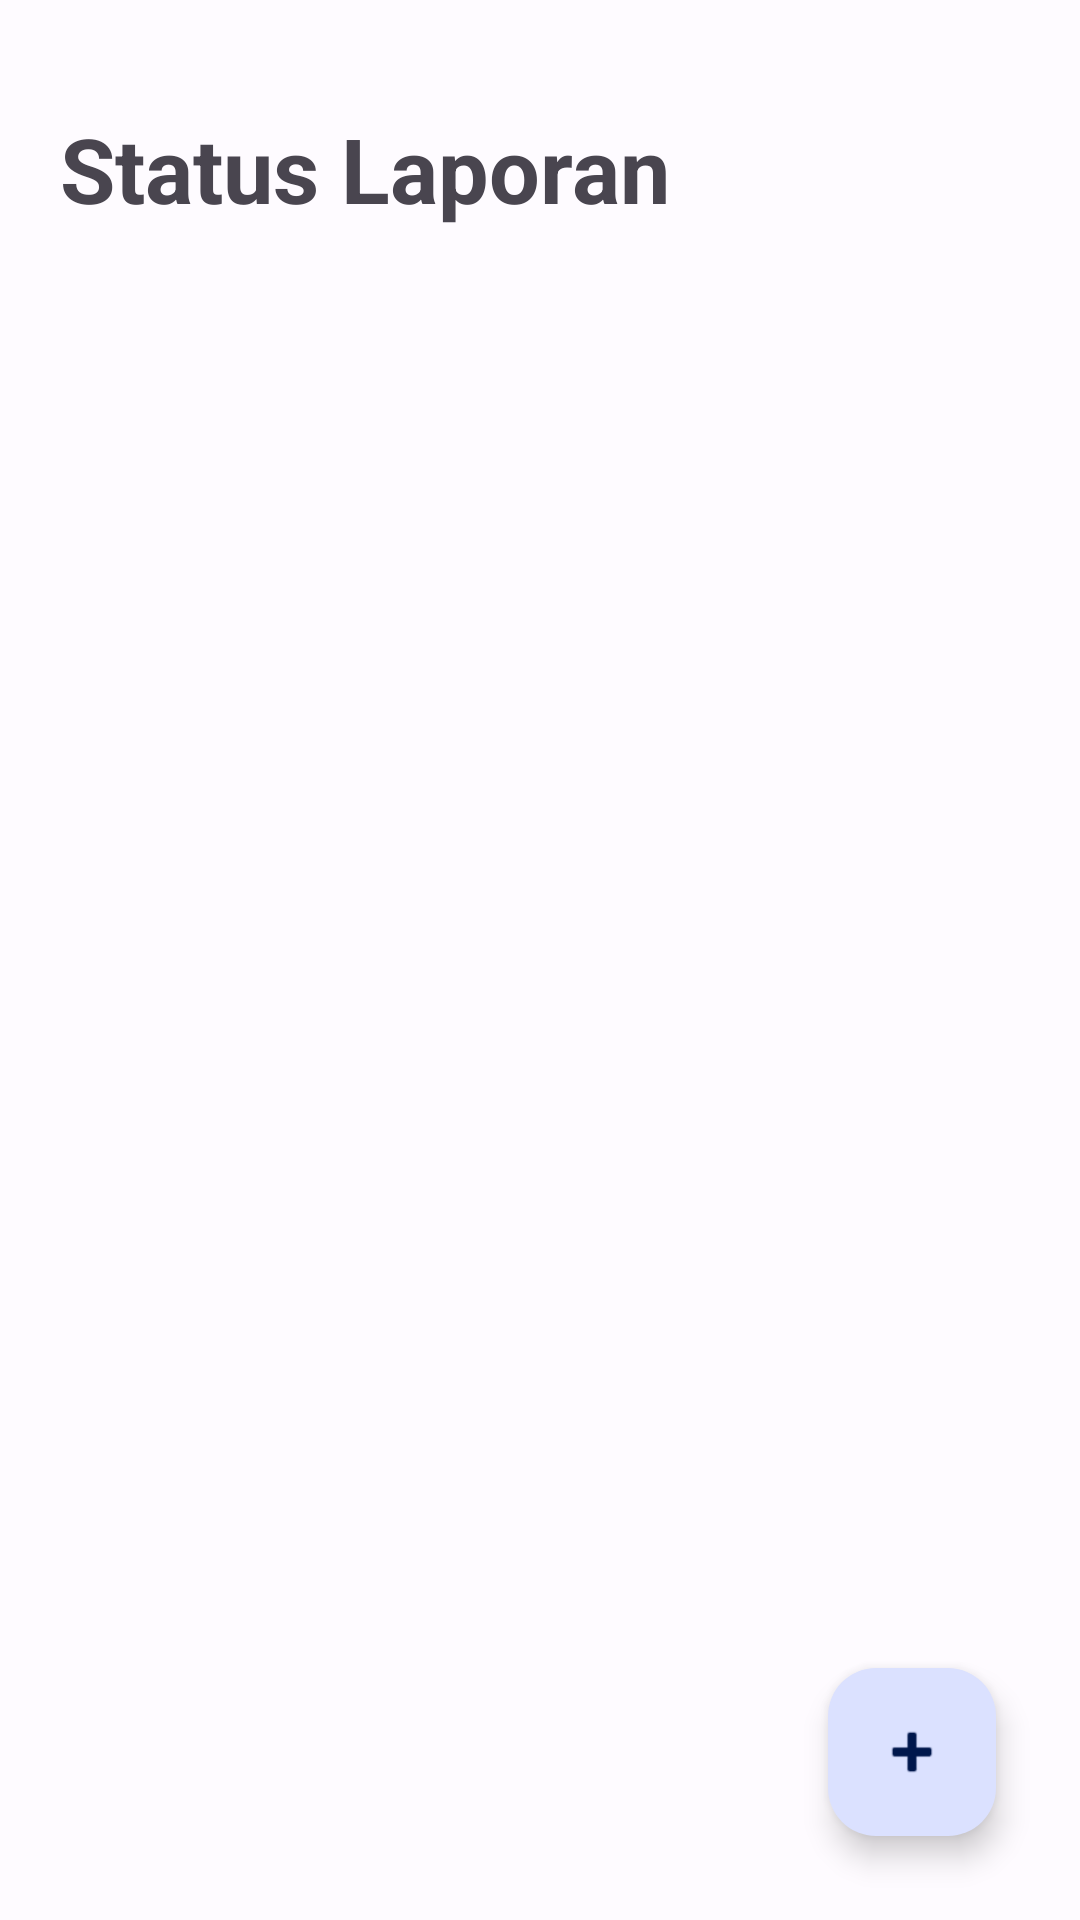

Named icons in this screenshot (1080 × 1920) and their bounding boxes, Rect(x1, y1, x2, y2):
add: Rect(828, 1668, 996, 1836)
